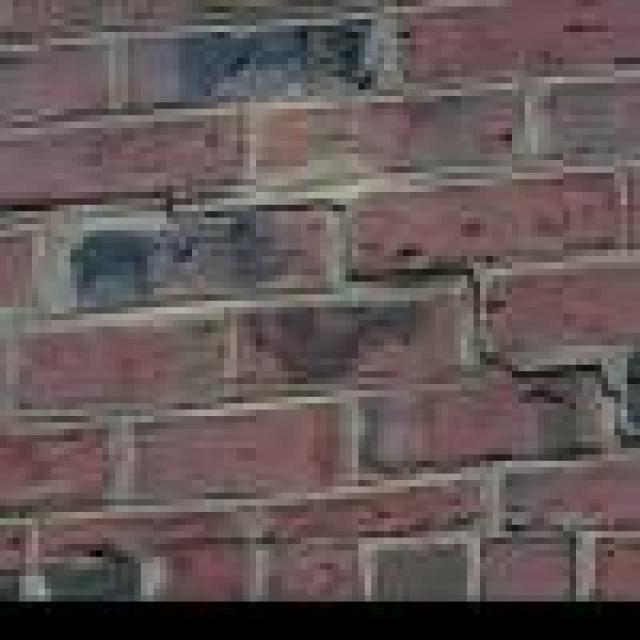Crack: (0, 179, 634, 442)
